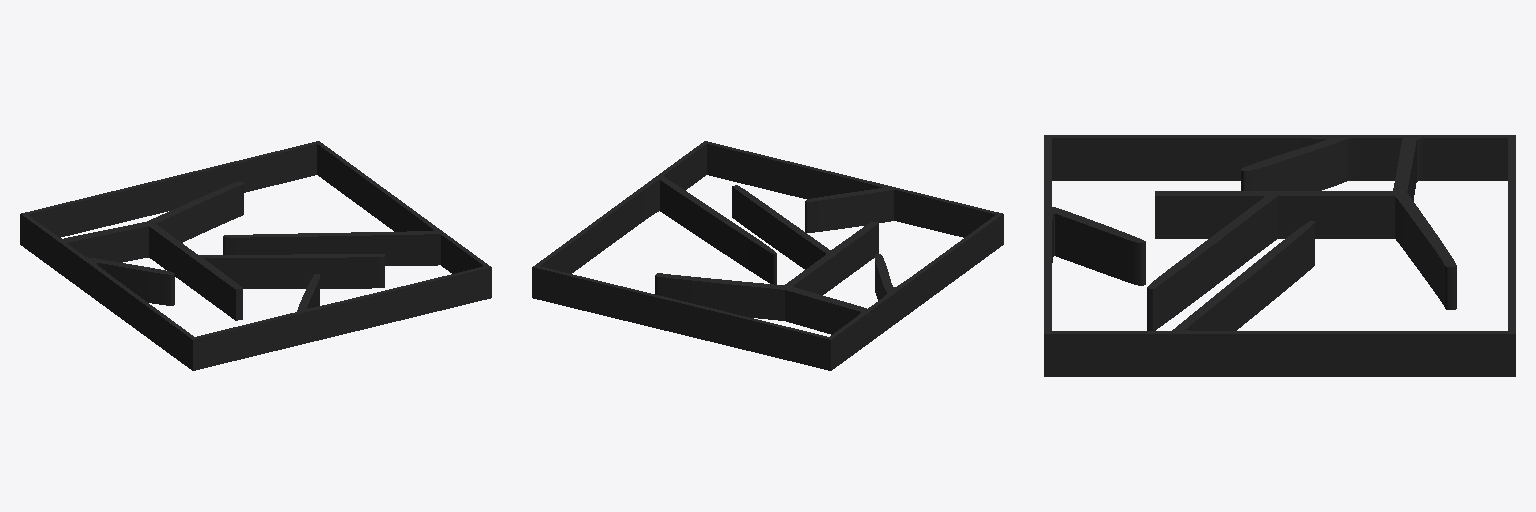
The robot description file, URDF, robot "maze_hard":
<?xml version="1.0"?> 
<robot name="maze_hard">

    <material name="black">
        <color rgba="0.2 0.2 0.2 0.95"/>
    </material>

    <link name="base_link">
        <visual>
            <geometry>
                <mesh filename="meshes/maze_hard.obj" scale="1 1 0.1"/>
            </geometry>
          <material name="black"/>
        </visual>

        <collision concave="yes" name="collision_0">
            <geometry>
                <mesh filename="meshes/maze_hard.obj" scale="1 1 0.1"/>
            </geometry>
        </collision>

        <inertial> 
            <mass value="0"/>
            <inertia ixx="0" ixy="0" ixz="0" iyy="0" iyz="0" izz="0"/>
        </inertial> 
    </link>
</robot>

--- What the picture shows (computed from the rendered views, not written in the file) ---
The picture shows the robot from 3 angles, left to right: view 1: azimuth 30°, elevation 25°; view 2: azimuth 150°, elevation 25°; view 3: azimuth 270°, elevation 25°; orthographic projection.
Robot: maze_hard — 1 links, 0 joints (none); root link base_link; default pose: every joint at zero.
Visible links, largest first — view 1: base_link; view 2: base_link; view 3: base_link.
Link boxes in pixels (x1=…): base_link: x1=20, y1=141, x2=491, y2=370; base_link: x1=532, y1=141, x2=1003, y2=370; base_link: x1=1044, y1=135, x2=1515, y2=376.
Size in the robot's own frame: 1 by 1 by 0.1 metres.
1 mesh visuals loaded from 1 distinct referenced files (1 OBJ).